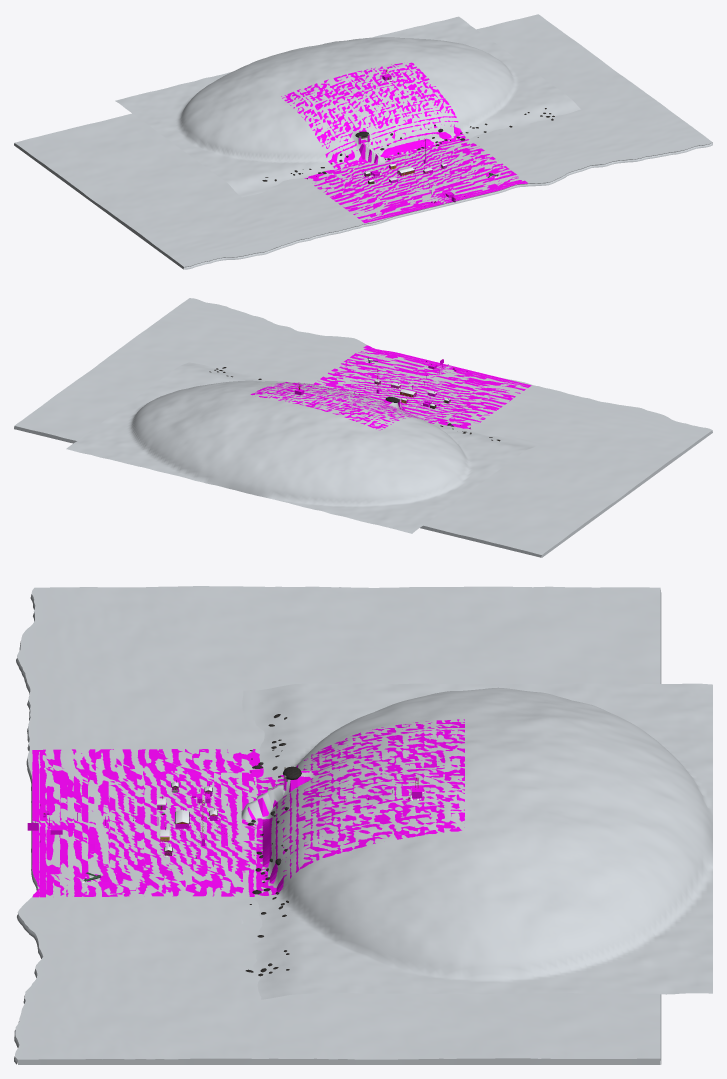
Rendered from station.glb.
3 views of the same model, one above another, from view 1: azimuth 30°, elevation 25°; view 2: azimuth 150°, elevation 25°; view 3: azimuth 270°, elevation 25° (orthographic). The views are drawn at different scales.
Parts seen in each view (by area): view 1: ICE_shelf, ICE_island, COL_island, COL_station, STATION; view 2: ICE_shelf, ICE_island, COL_station, COL_island; view 3: ICE_shelf, ICE_island, COL_station, COL_island, STATION, STATION_rocks.
Part boxes in pixels (x1,y1,x2,y2): ICE_shelf: (14,14,712,269); ICE_island: (115,16,580,197); COL_island: (281,62,468,170); COL_station: (304,142,527,223); STATION: (358,78,498,202); ICE_shelf: (14,298,712,557); ICE_island: (66,362,539,533); COL_station: (313,345,531,429); COL_island: (250,382,437,430); ICE_shelf: (14,586,661,1064); ICE_island: (241,683,712,999); COL_station: (32,749,263,897); COL_island: (241,719,464,896); STATION: (35,767,423,882); STATION_rocks: (245,714,289,976).
Size of the model in its own units: 641 by 57.82 by 400.
Materials: 58 (30 with a texture image).
